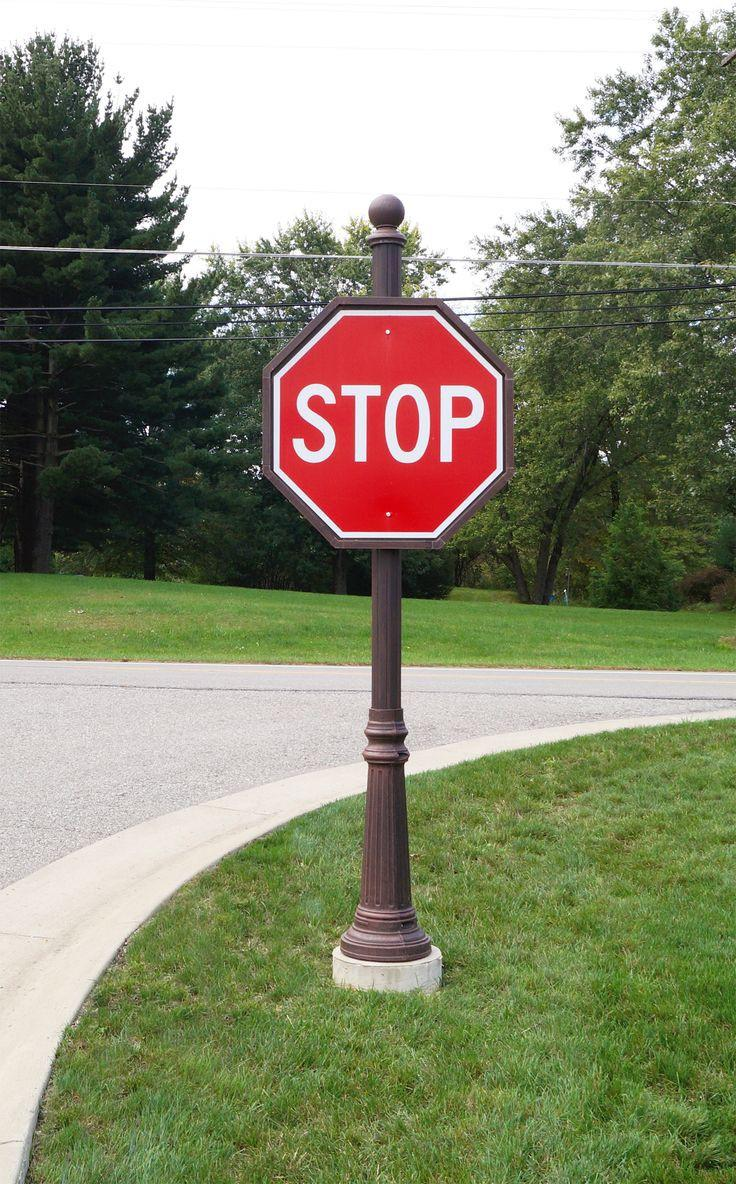Pole: (364, 545, 412, 958)
Sign: (280, 314, 497, 533)
